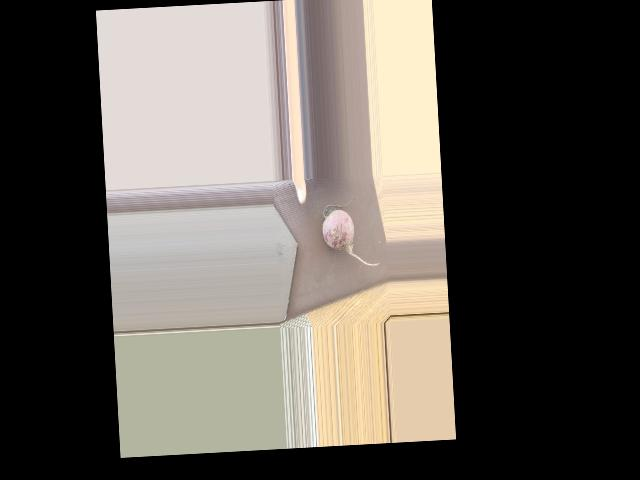beet: (320, 197, 379, 269)
